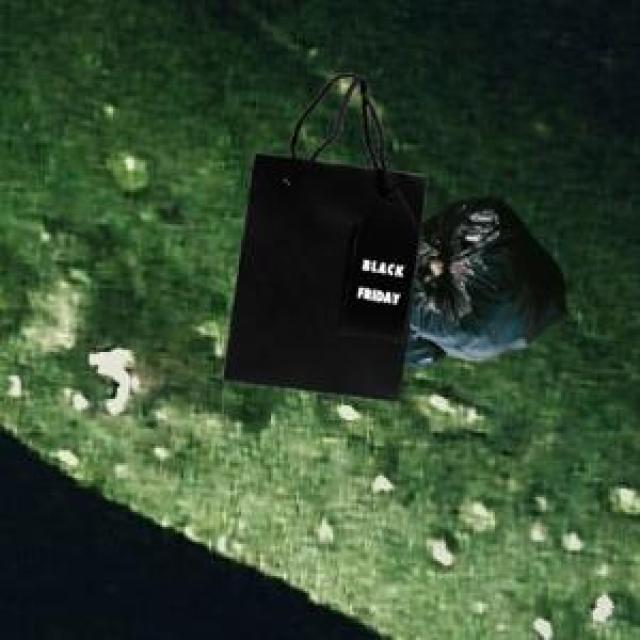miscellaneous trash: (401, 194, 563, 363)
paper: (220, 70, 422, 399)
